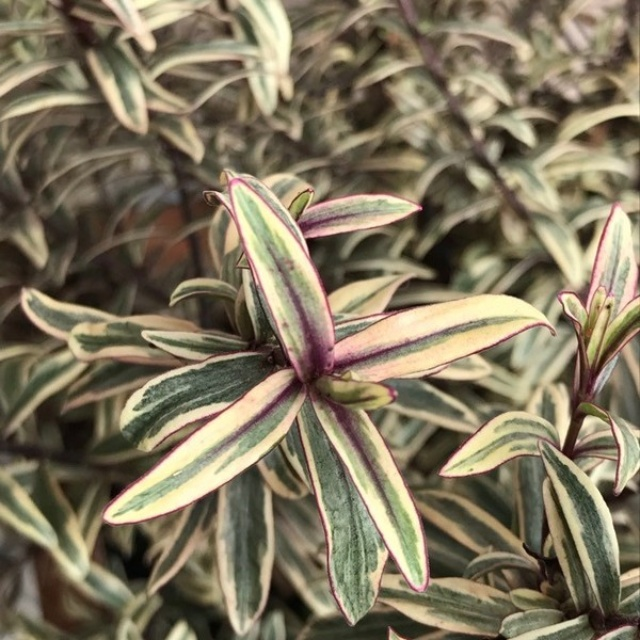obstacle: (48, 145, 516, 599)
